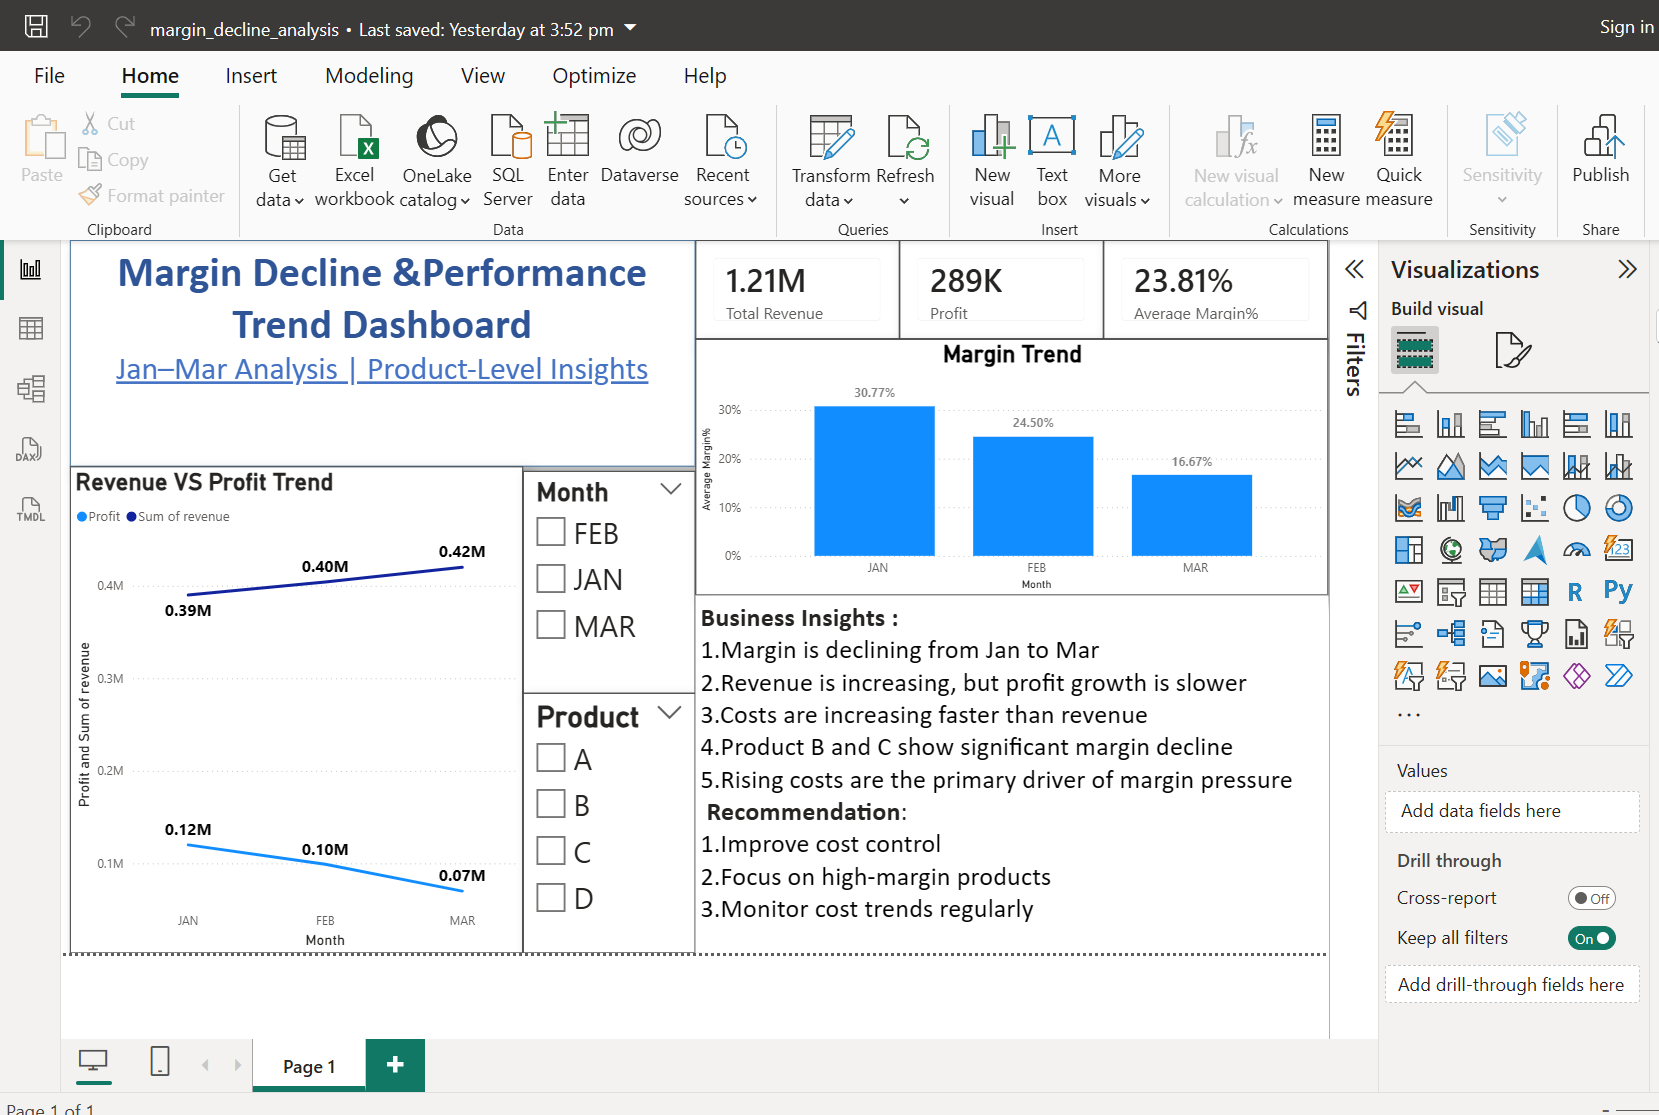

This screenshot's page, from the dashboard's own definition file:
{"tool":"powerbi","page":{"name":"Page 1","canvas":[1280,720],"ordinal":0},"visuals":[{"type":"textbox","box":[9.4,0,631.2,228.7],"z":0},{"type":"cardVisual","fields":{"Data":["Sheet1.Total Revenue"]},"box":[640.6,0,206,100.2],"z":1000},{"type":"cardVisual","fields":{"Data":["Sheet1.Profit"]},"box":[846.6,0,206,100.2],"z":2000},{"type":"cardVisual","fields":{"Data":["Sheet1.Margin%"]},"box":[1052.6,0,226.8,100.2],"z":3000},{"type":"lineChart","title":"Revenue VS Profit Trend","fields":{"Category":["Sheet1.Month"],"Y":["Sheet1.Profit","Sum(Sheet1.revenue)"]},"box":[9.4,228.7,457.3,491.3],"z":4000},{"type":"slicer","fields":{"Values":["Sheet1.Month"]},"box":[466.8,232.4,173.9,224.9],"z":5000},{"type":"slicer","fields":{"Values":["Sheet1.Product"]},"box":[466.8,457.3,173.9,262.7],"z":6000},{"type":"columnChart","title":"Margin Trend","fields":{"Y":["Sheet1.Average Margin%"],"Category":["Sheet1.Month"]},"box":[640.6,100.2,638.7,258.9],"z":7000},{"type":"textbox","box":[640.6,359.1,638.7,360.9],"z":8000}]}

Visuals, with their boxes on the page's 1280x720 design canvas (x1, y1, x2, y2). These are canvas units, not pixel positions in the 1659x1115 screenshot, which may show the page scaled, cropped or inside an application window:
textbox: l=9, t=0, r=641, b=229
cardVisual - Sheet1.Total Revenue: l=641, t=0, r=847, b=100
cardVisual - Sheet1.Profit: l=847, t=0, r=1053, b=100
cardVisual - Sheet1.Margin%: l=1053, t=0, r=1279, b=100
"Revenue VS Profit Trend" lineChart: l=9, t=229, r=467, b=720
slicer - Sheet1.Month: l=467, t=232, r=641, b=457
slicer - Sheet1.Product: l=467, t=457, r=641, b=720
"Margin Trend" columnChart: l=641, t=100, r=1279, b=359
textbox: l=641, t=359, r=1279, b=720
